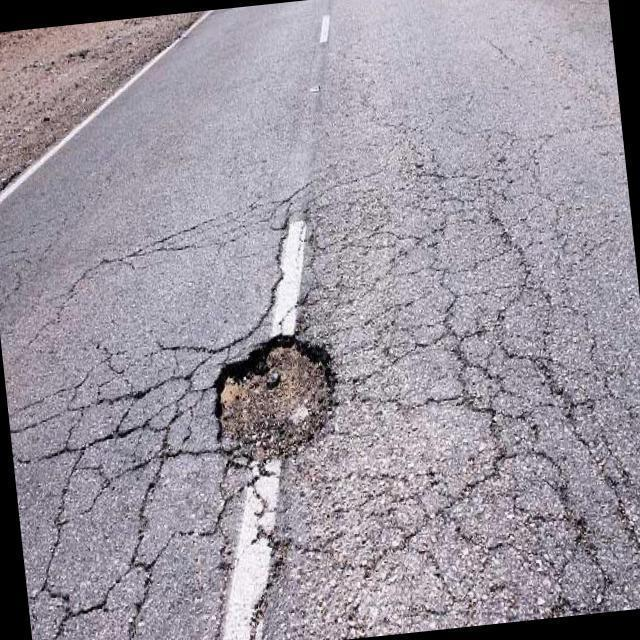Lubang: (213, 325, 337, 471)
Retak Buaya: (0, 158, 640, 640)
